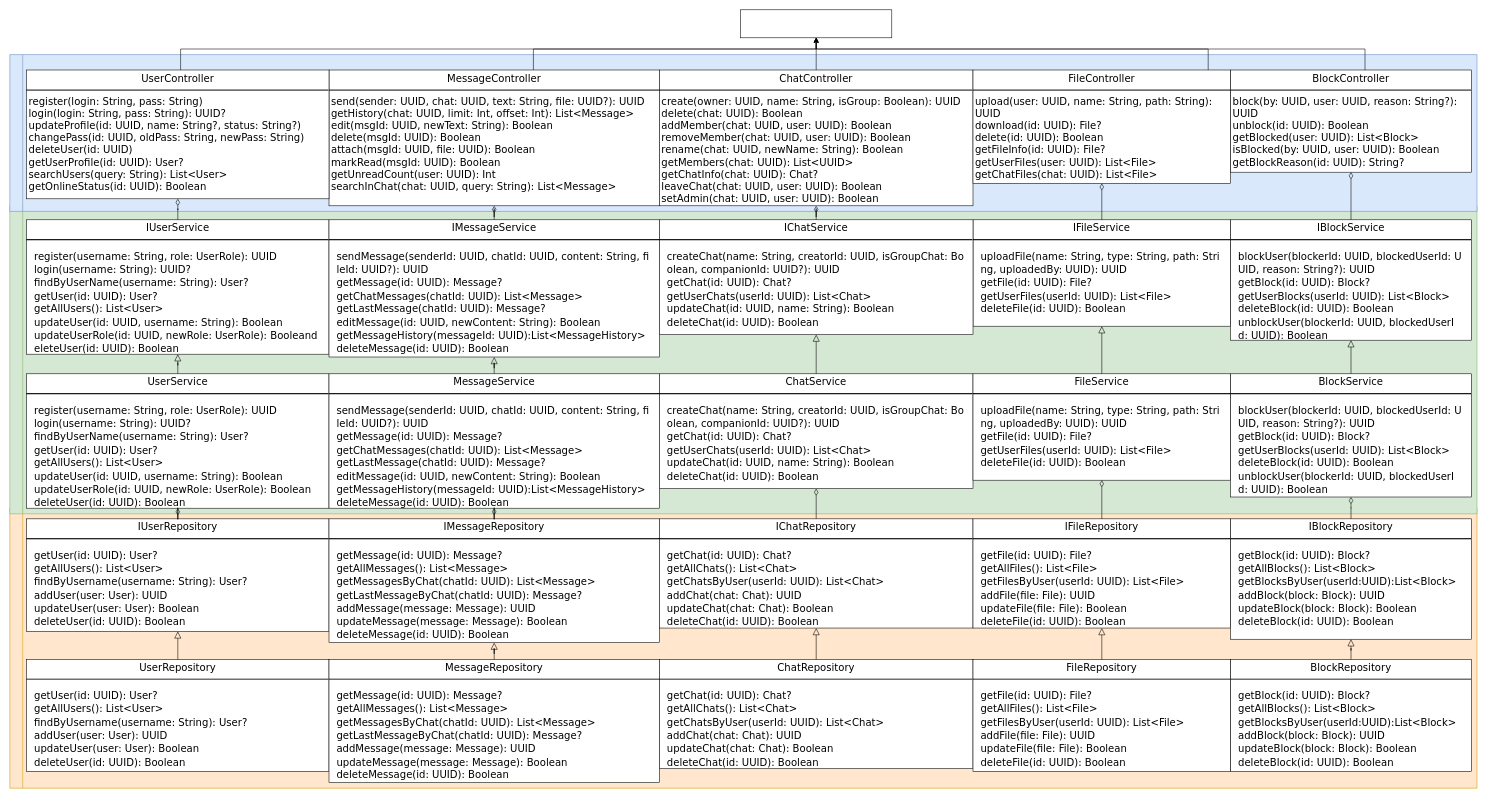
Some shapes in this 1487 by 798 pixel diagram are drawn without their labels. Here are the shapes that lost their labels. From the top down, the box of each, then its label:
(740, 9, 892, 38): App
(9, 54, 1477, 211): Компонент реализации UI
(9, 205, 1477, 514): Компонент бизнес-логики
(9, 508, 1477, 788): Компонент доступа к данным
